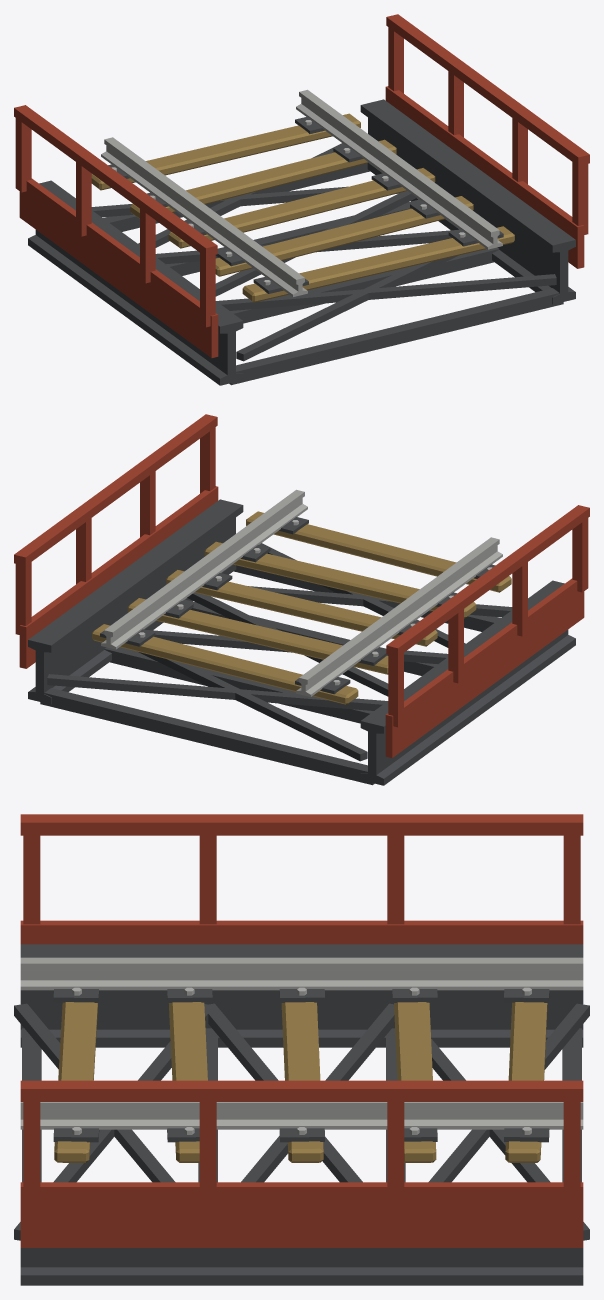
The model's file is elevated-straight-rail.glb.
3 views of the same model, one above another, from view 1: azimuth 30°, elevation 25°; view 2: azimuth 150°, elevation 25°; view 3: azimuth 270°, elevation 25° (orthographic). The views are drawn at different scales.
Parts seen in each view (by area): view 1: body; view 2: body; view 3: body.
Part boxes in pixels (bbox=[...]): body: bbox=[14, 14, 589, 385]; body: bbox=[14, 414, 589, 785]; body: bbox=[14, 814, 589, 1285].
Bounding box in the file's own units: 2.31 × 0.825 × 2.05.
